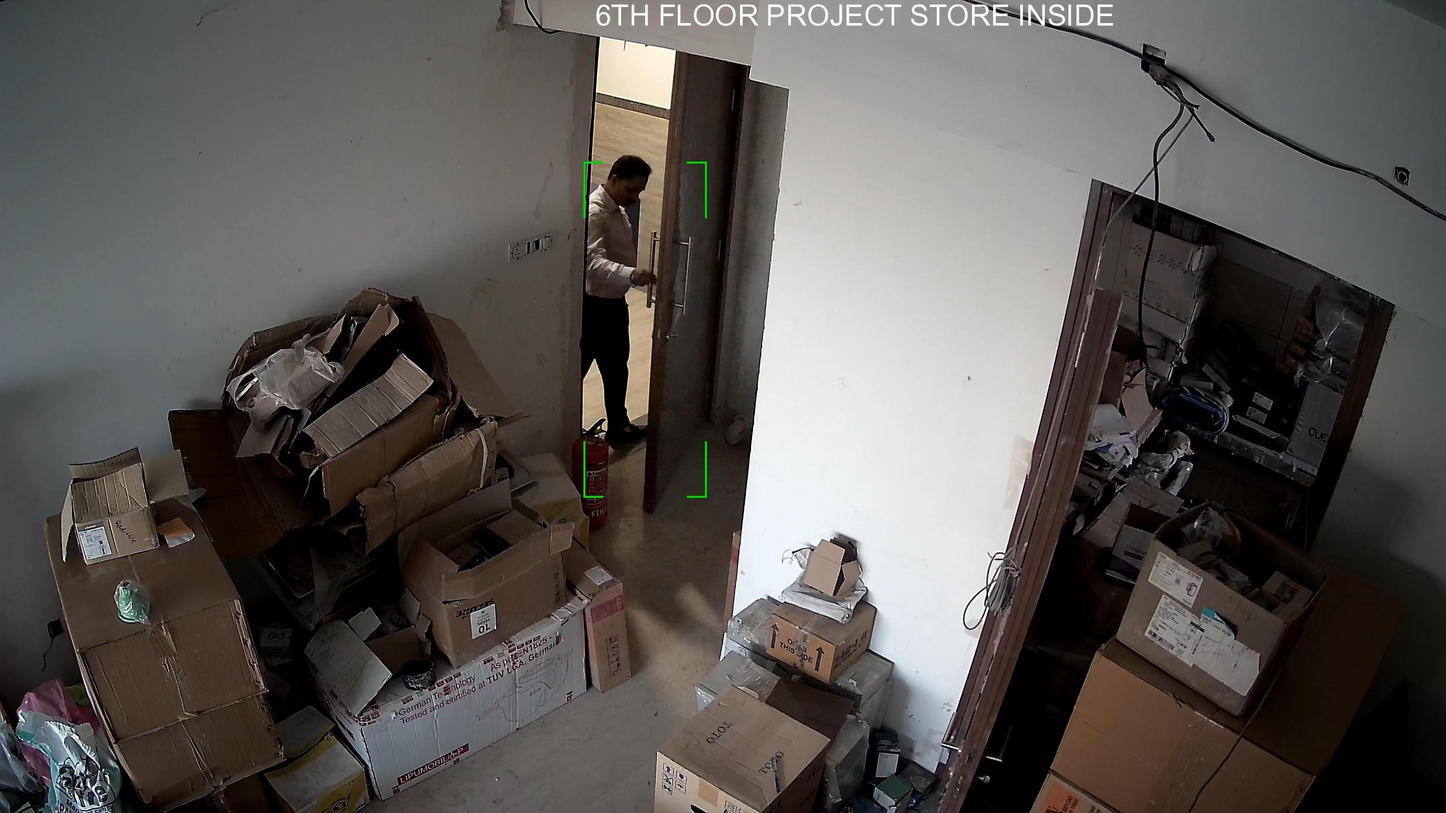Door-Open: (562, 29, 769, 530)
